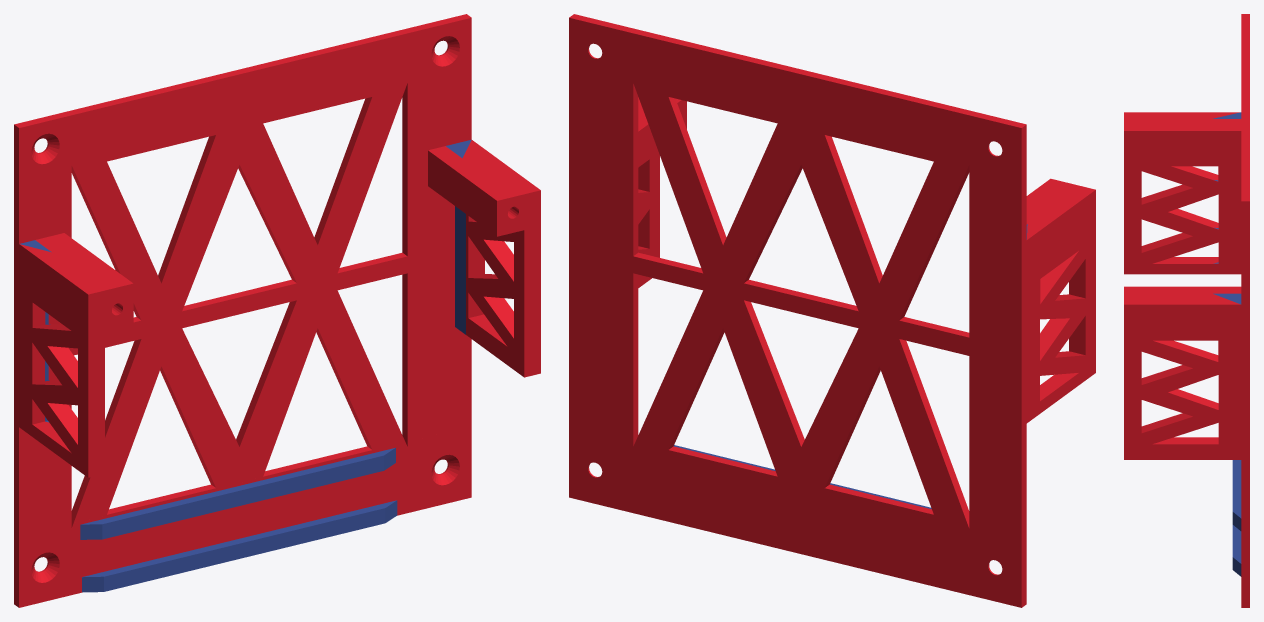
Rendered from tinker.obj.
3 renders of one model, left to right at view 1: azimuth 30°, elevation 25°; view 2: azimuth 150°, elevation 25°; view 3: azimuth 270°, elevation 25°, orthographic. The views are drawn at different scales.
Parts seen in each view (by area): view 1: group_0_15277357, group_0_3888547; view 2: group_0_15277357; view 3: group_0_15277357, group_0_3888547.
Boxes of the visible parts, box(x1,y1,x2,y2) form: group_0_15277357: box(14, 14, 540, 607); group_0_3888547: box(20, 139, 471, 592); group_0_15277357: box(569, 14, 1095, 607); group_0_15277357: box(1124, 14, 1249, 607); group_0_3888547: box(1213, 112, 1241, 576).
Bounding box in the file's own units: 155 × 157 × 44.
